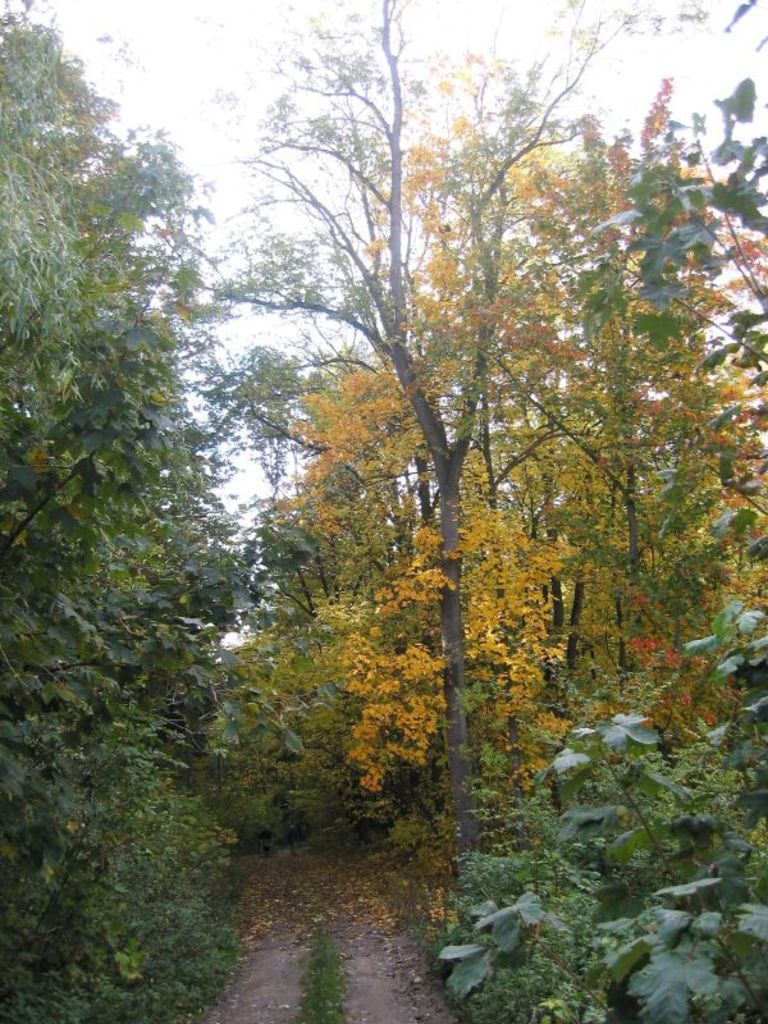Tree: (442, 0, 766, 1022), (0, 0, 218, 990)
